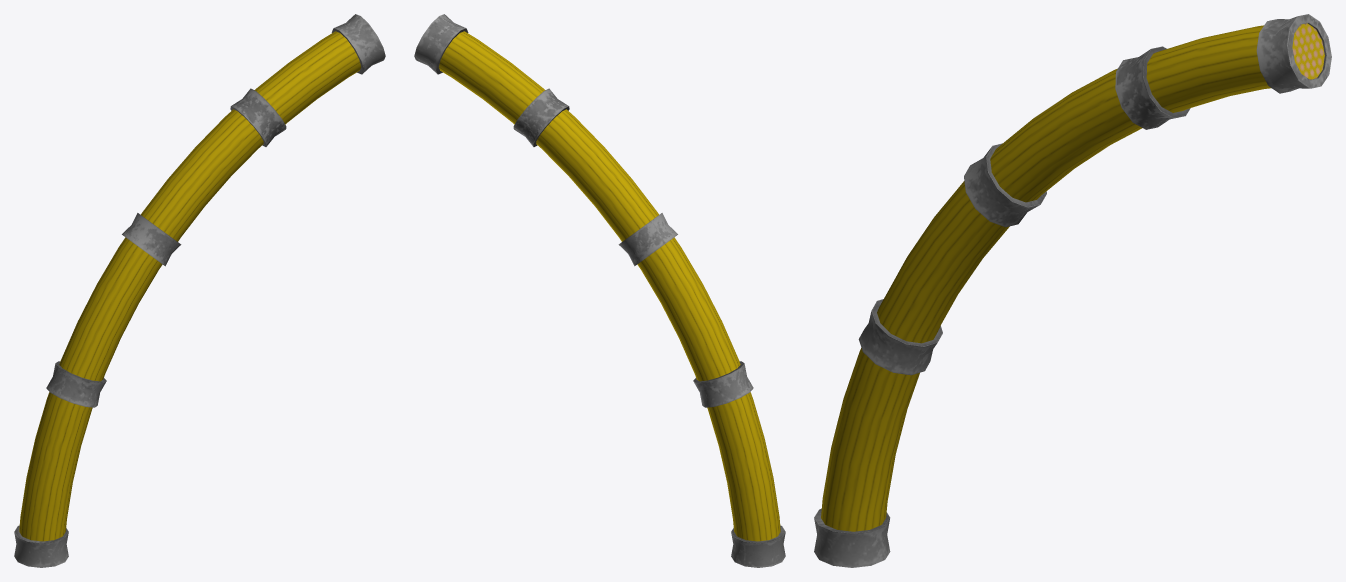
File: ElectricalWires01_06.glb
3 views of the same model, side by side, from view 1: azimuth 30°, elevation 25°; view 2: azimuth 150°, elevation 25°; view 3: azimuth 330°, elevation 25° (orthographic). The views are drawn at different scales.
Parts seen in each view (by area): view 1: Circle_017; view 2: Circle_017; view 3: Circle_017.
Part boxes in pixels (box(x1,y1,x2,y2)): Circle_017: box(14, 14, 385, 567); Circle_017: box(414, 14, 785, 567); Circle_017: box(814, 14, 1331, 567).
Bounding box in the file's own units: 0.5959 × 0.7304 × 0.0784.
1 material, 1 textured.
